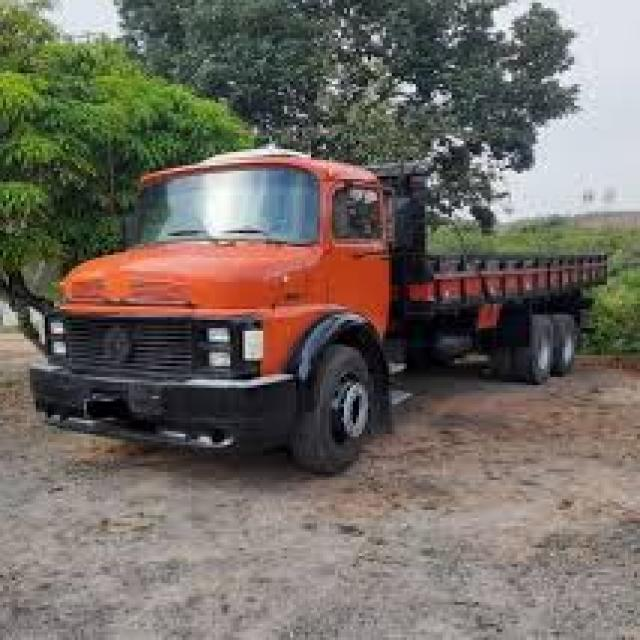truck: (28, 122, 627, 485)
